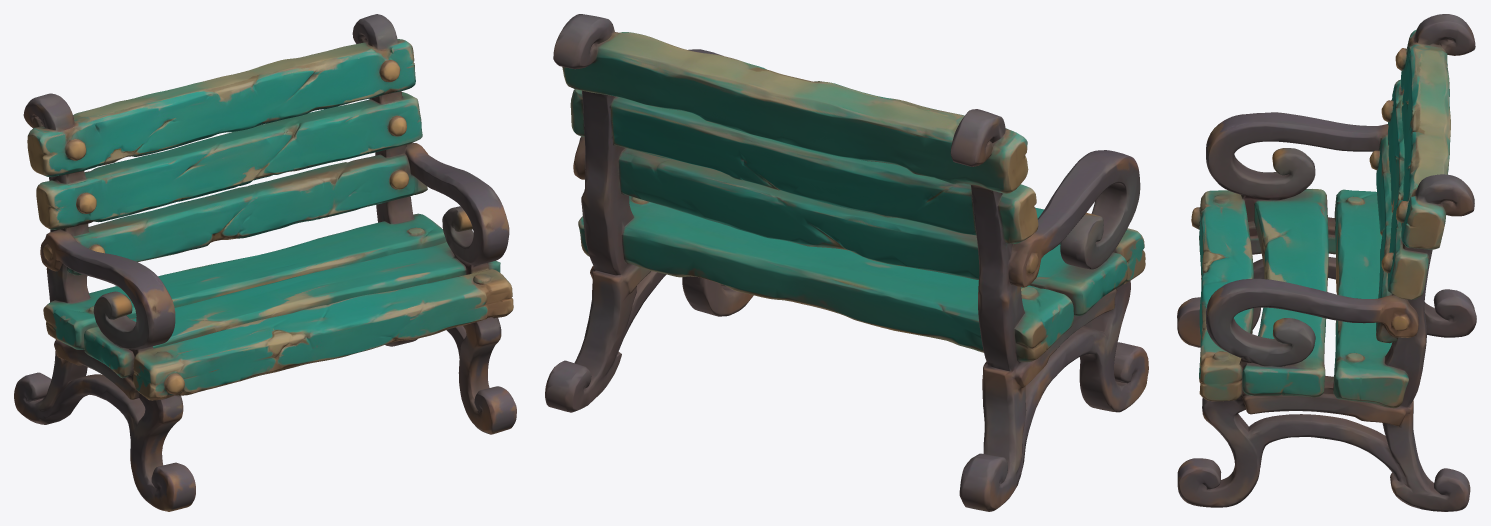
Rendered from park_bench.glb.
3 views of the same model, side by side, from view 1: azimuth 30°, elevation 25°; view 2: azimuth 150°, elevation 25°; view 3: azimuth 270°, elevation 25° (orthographic). The views are drawn at different scales.
Parts seen in each view (by area): view 1: tripo_node_80a5d1e0-b770-4069-877b-15676de03063; view 2: tripo_node_80a5d1e0-b770-4069-877b-15676de03063; view 3: tripo_node_80a5d1e0-b770-4069-877b-15676de03063.
Boxes of the visible parts, <box> form: tripo_node_80a5d1e0-b770-4069-877b-15676de03063: <box>14,14,516,511</box>; tripo_node_80a5d1e0-b770-4069-877b-15676de03063: <box>545,14,1148,511</box>; tripo_node_80a5d1e0-b770-4069-877b-15676de03063: <box>1177,14,1476,511</box>.
Size of the model in its own units: 0.9801 by 0.799 by 0.665.
Materials: 1 (1 with a texture image).
